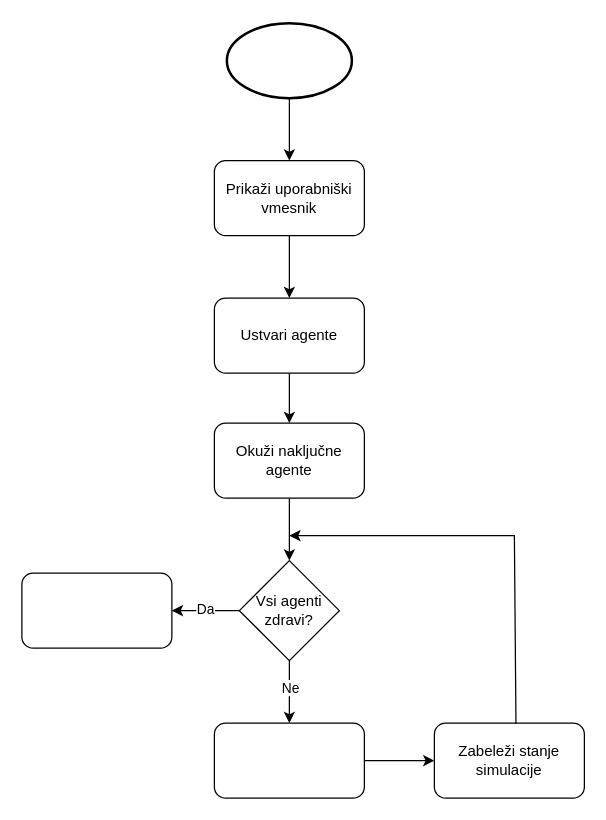
Image size: 606x820. Some labels were removed from this diagram. The centre of each missing label's shape, as x and y in pixels:
"Premakni in posodobi agente" goes at point (288, 760).
"Zaključi glavni program" goes at point (96, 610).
"Začni glavni program" goes at point (288, 60).
